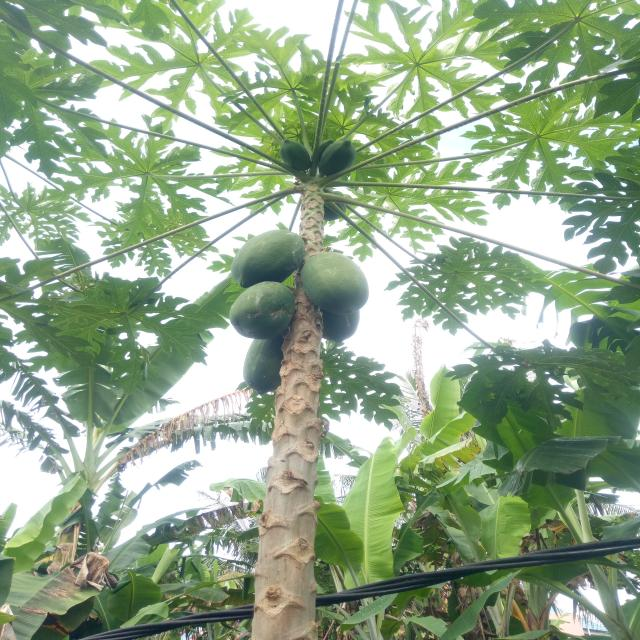Pepaya unrippen: (228, 285, 299, 346), (227, 228, 301, 286), (301, 254, 371, 311), (238, 345, 284, 392)
